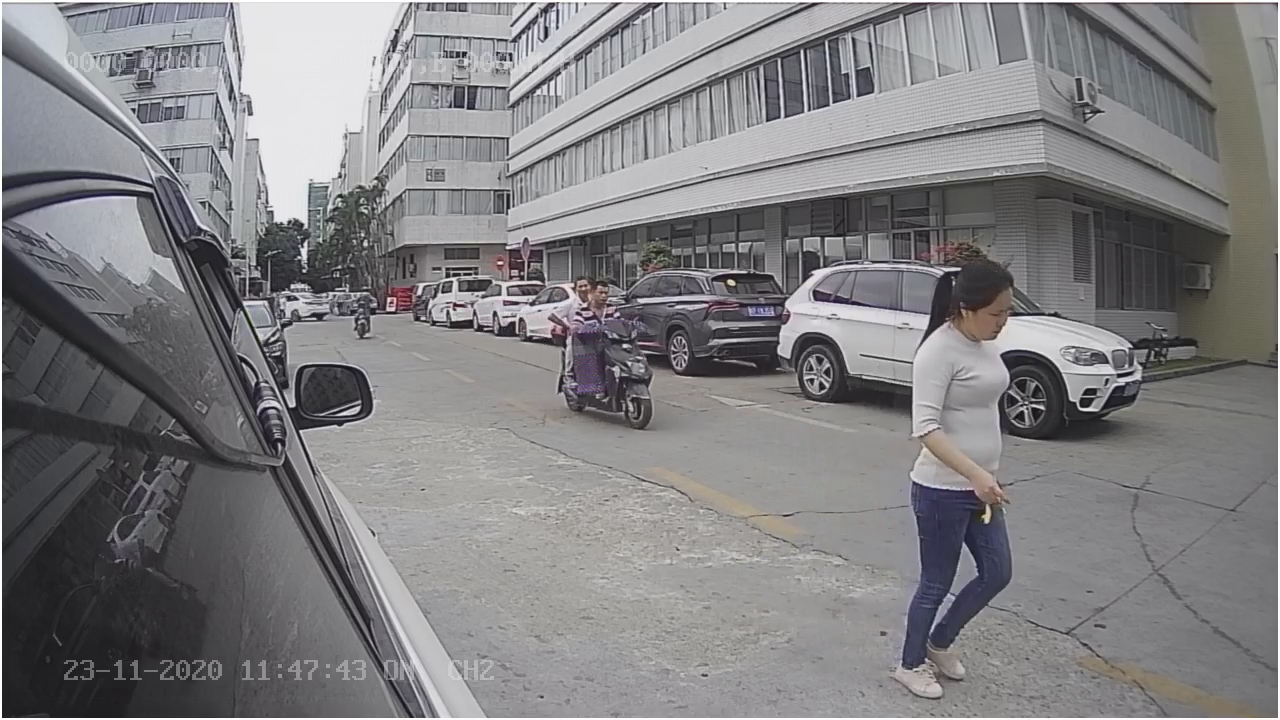person: (883, 246, 1022, 698)
